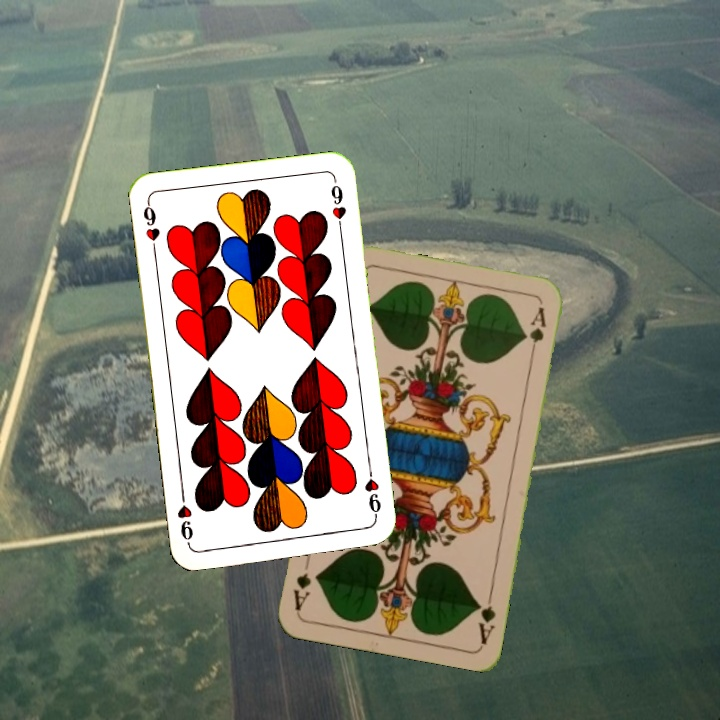GA: (473, 587, 498, 646)
H9: (139, 198, 163, 257), (361, 464, 384, 523)
